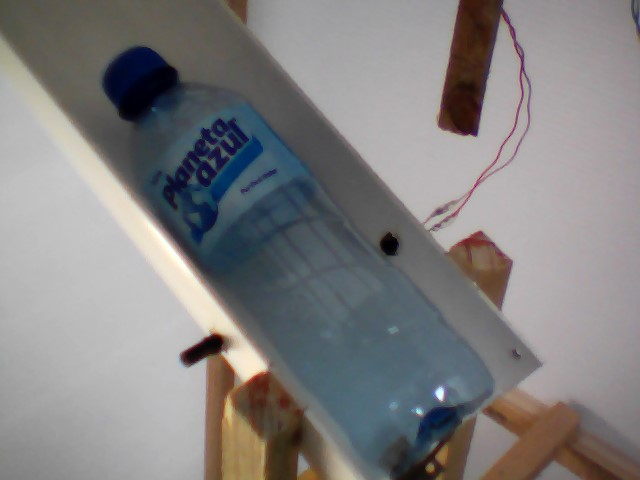plastico: (98, 32, 505, 480)
